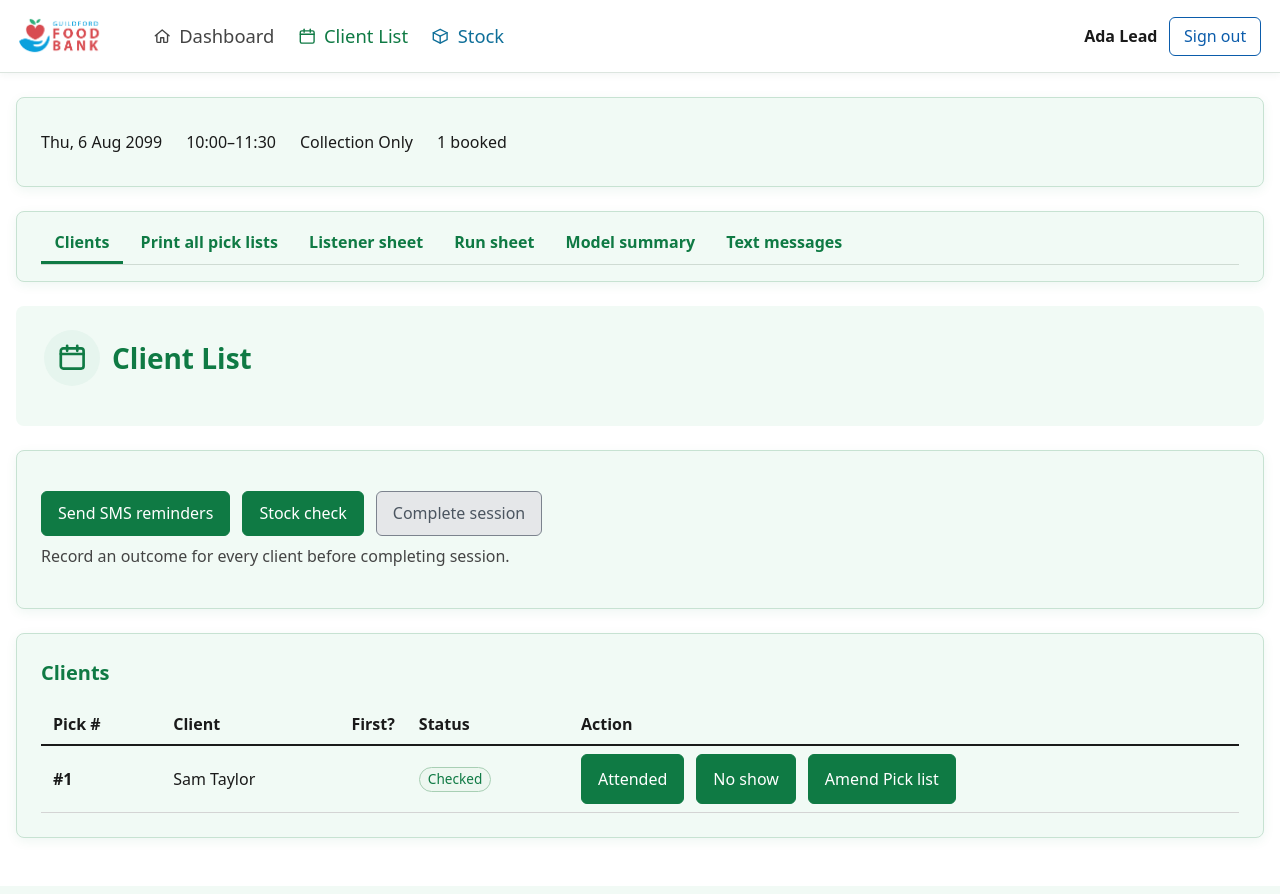
Test: the session stock check › shows the server’s own sentence when it refuses to add the session up
Click the button "Stock check". click: (303, 513)
box: x1=242 y1=491 x2=364 y2=536
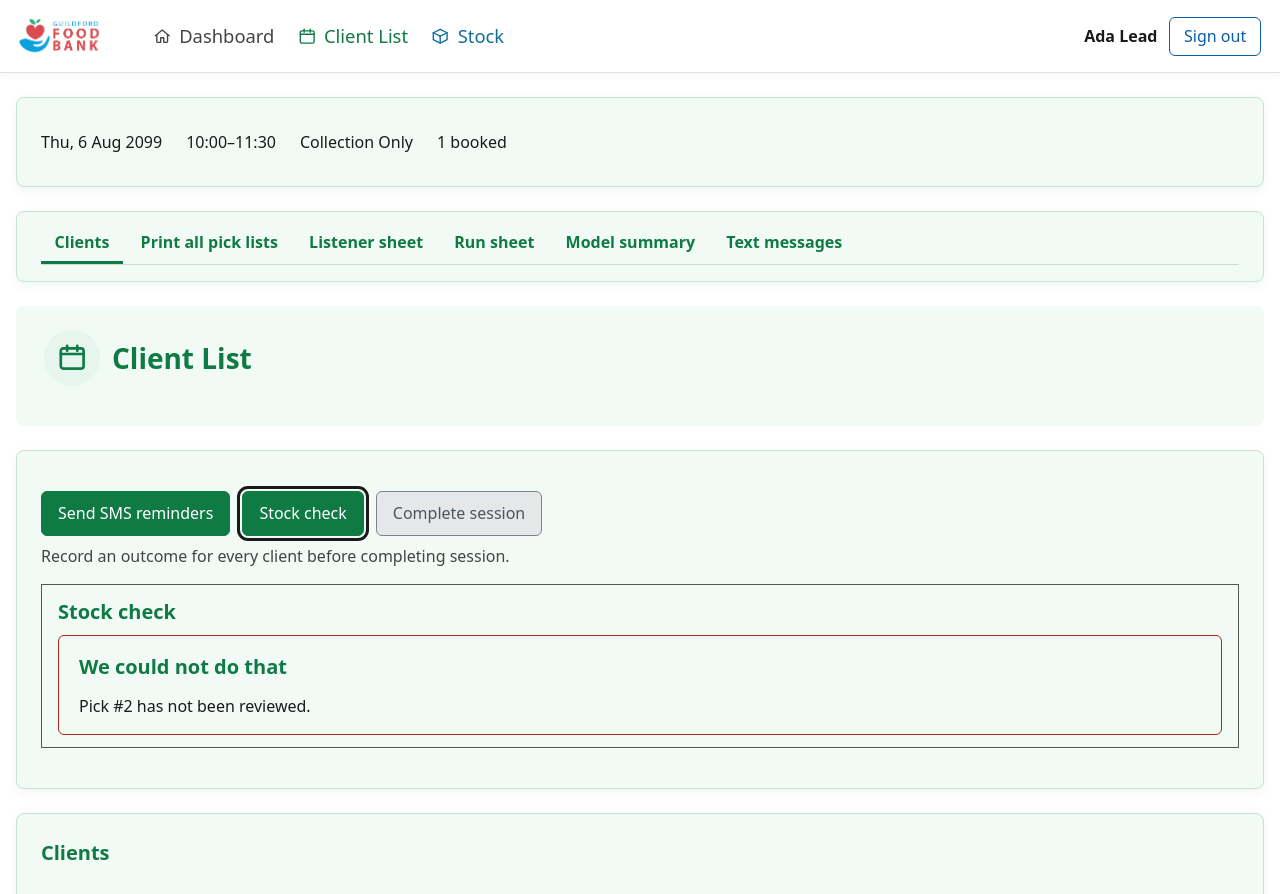
Check: the text "Pick #2 has not been reviewed." is shown, box x1=79 y1=694 x2=311 y2=718
